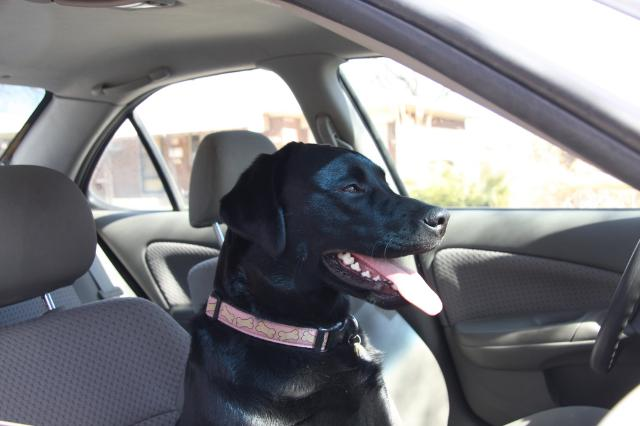Seatbelt: (90, 254, 122, 300)
